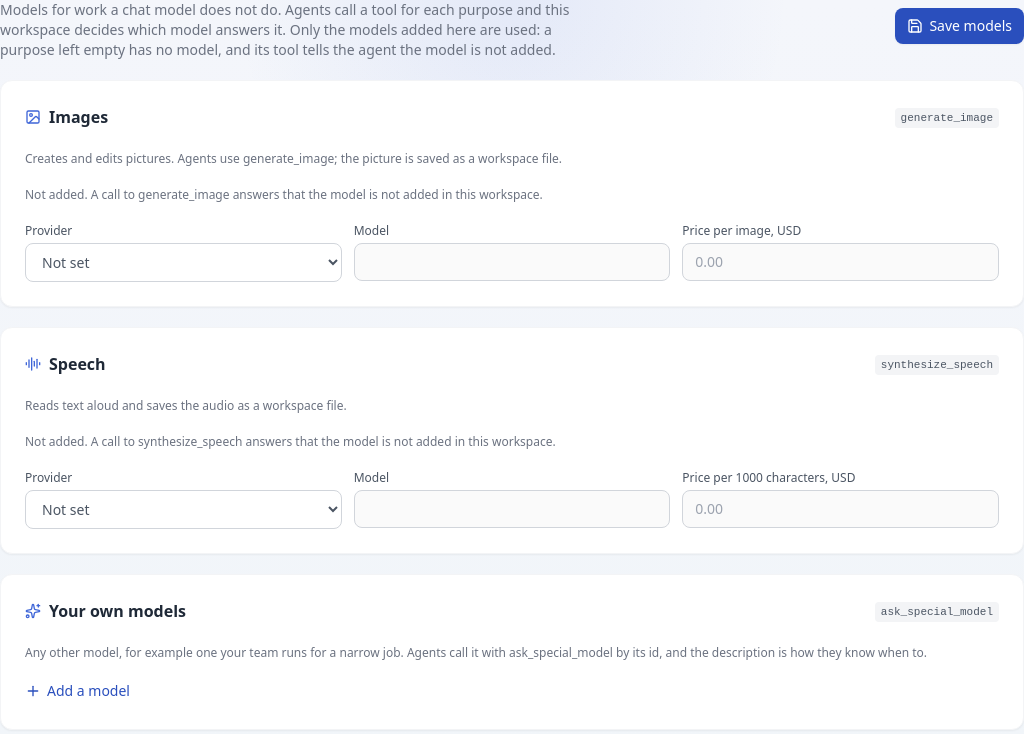
Scenario: WorkspaceSpecialModels › finds the models of the provider that fit the purpose and picks one
The width and height of the screenshot is (1024, 734).
Expected: the text with test id "special-image-missing" is shown, [25,186,543,203]
Select "OpenAI" in the 2nd dropdown labelled "Provider". click: (183, 510)
box: [25,490,342,529]
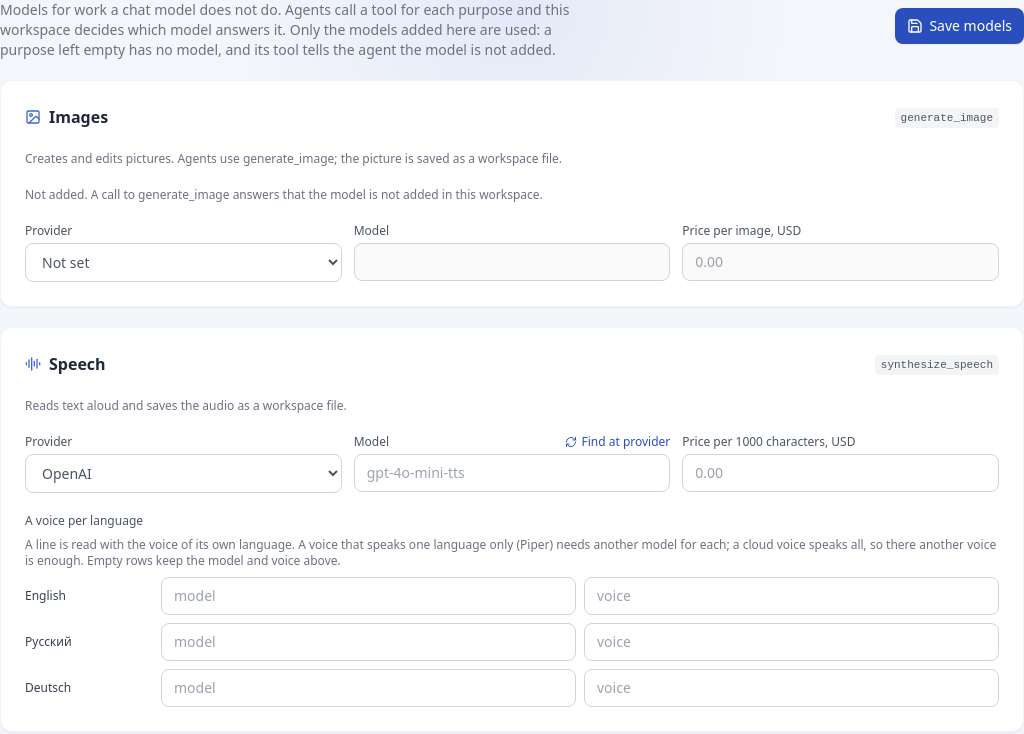
Click the button with test id "special-speech-discover". click: click(618, 442)
box: [566,434,670,450]
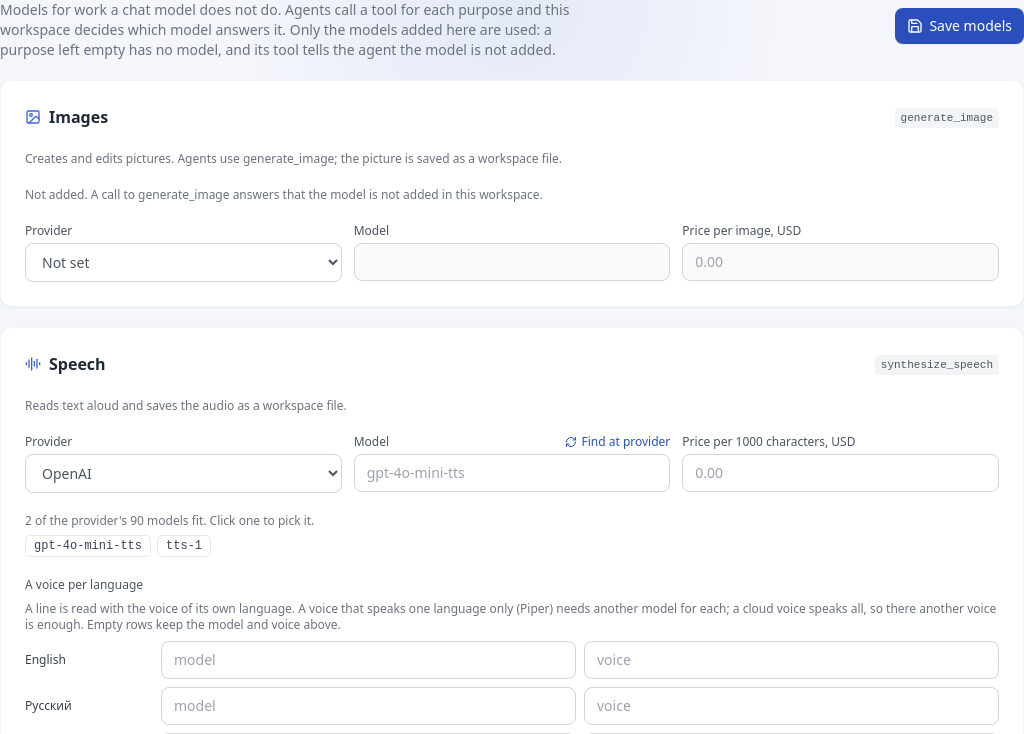
Result: the element with test id "special-speech-found" shows "2 of the provider's 90 models fit" at [25,512,314,529]
Click the button "tts-1". click: click(184, 546)
box: [157,535,211,557]
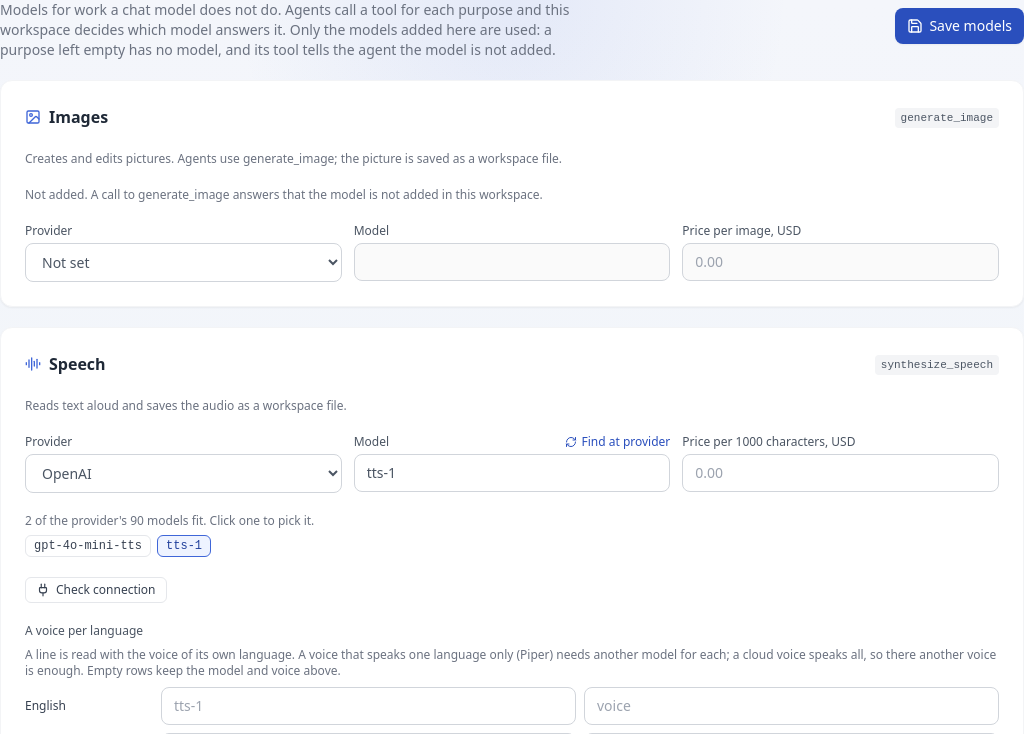
Result: the field labelled "Model" below "Price per 1000 characters, USD" holds "tts-1" at [354,454,670,492]
# Another provider: the list was for the first one.
Select "Not set" in the 2nd dropdown labelled "Provider". click: (183, 474)
box: [25,454,342,493]
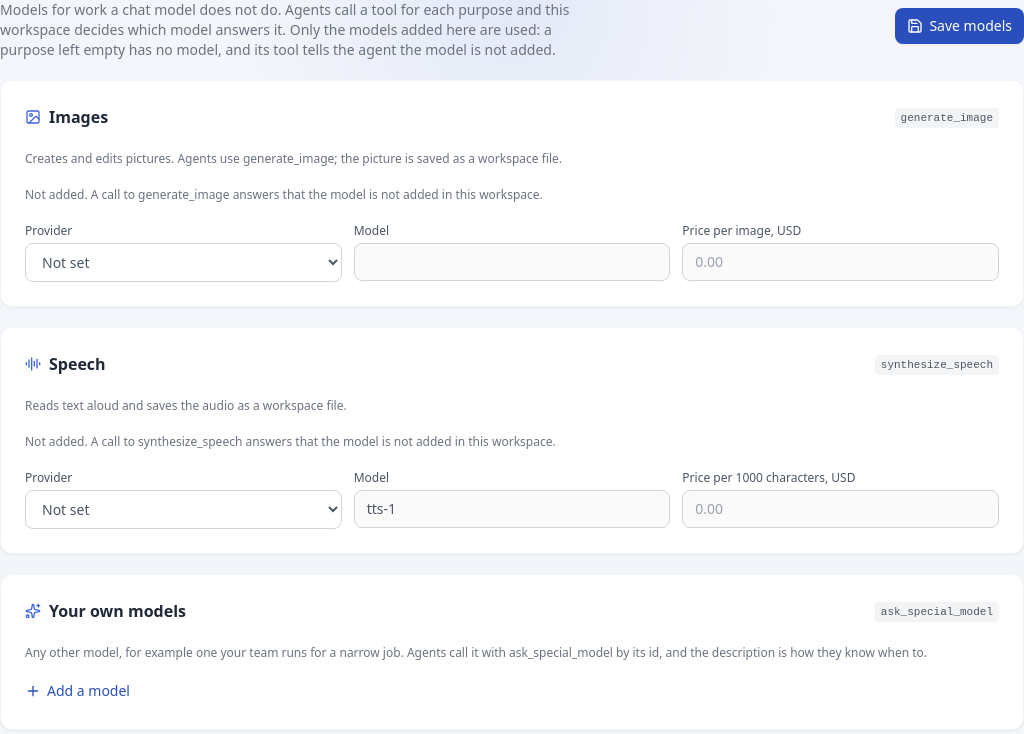
Result: the element with test id "special-speech-found" is gone
